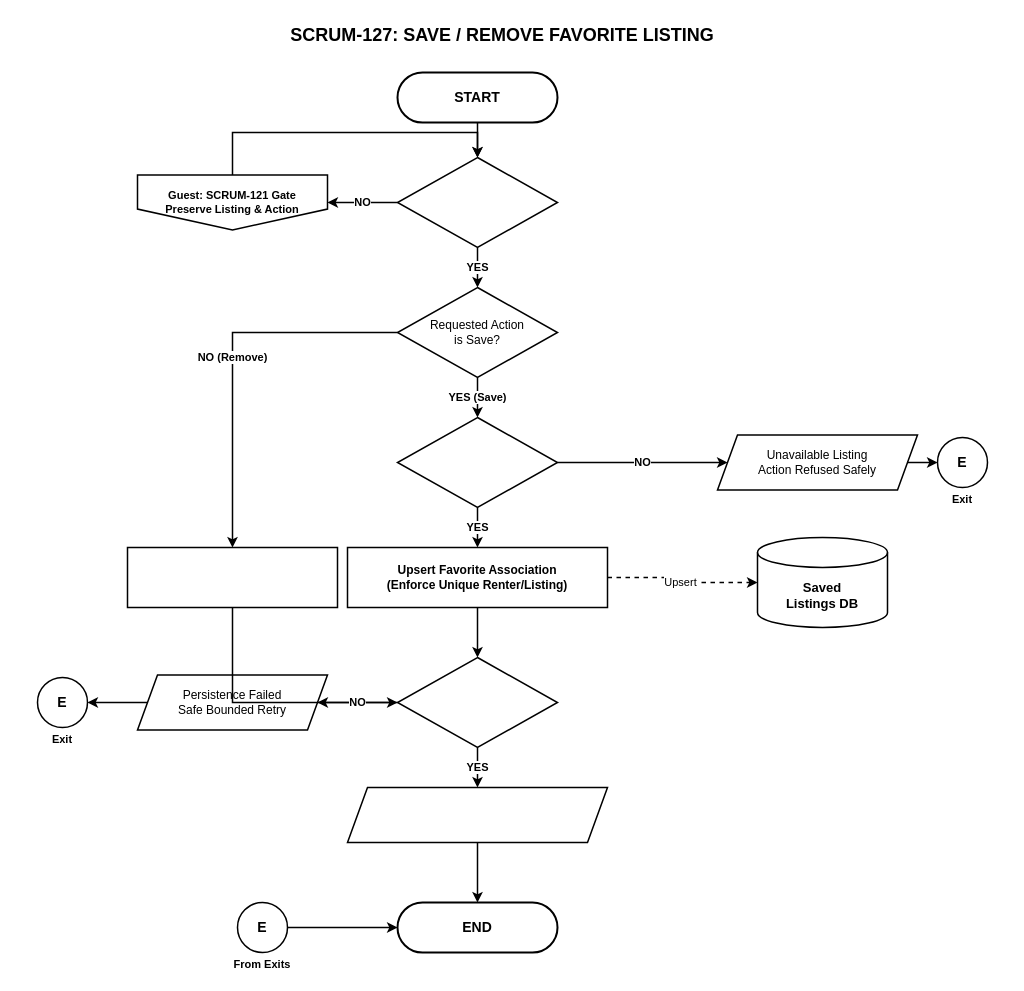
This 1024x991 diagram has some shape labels left out. The centre of each missing label's shape, as x and y in pixels:
Authenticated Renter?: point (477, 202)
Delete Favorite Association (Idempotent Removal): point (232, 577)
Listing Approved & Available?: point (477, 462)
Persistence Succeeded?: point (477, 702)
Update Renter Saved State (Reflect Instant UI Toggle): point (477, 814)
